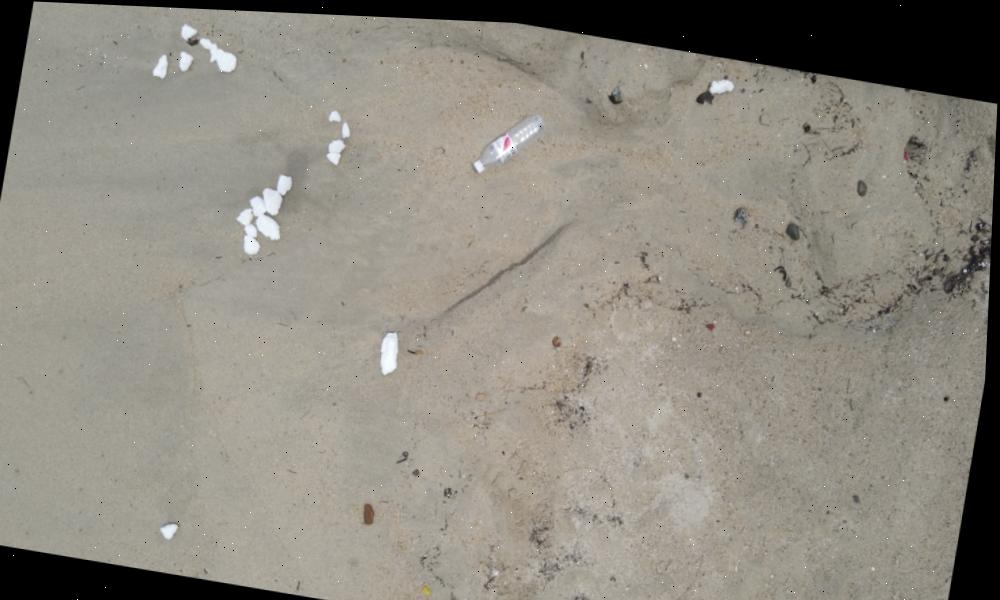plastic bottle: (475, 102, 542, 175)
styrofoam: (197, 33, 243, 74), (378, 325, 404, 372), (255, 211, 282, 239), (260, 186, 284, 215), (709, 68, 736, 92), (274, 168, 296, 195), (324, 134, 346, 158), (153, 50, 171, 78), (239, 233, 262, 254), (246, 194, 269, 213), (165, 521, 184, 540), (327, 105, 344, 124), (178, 21, 197, 38), (179, 50, 194, 71), (236, 209, 256, 224), (341, 119, 353, 135)
